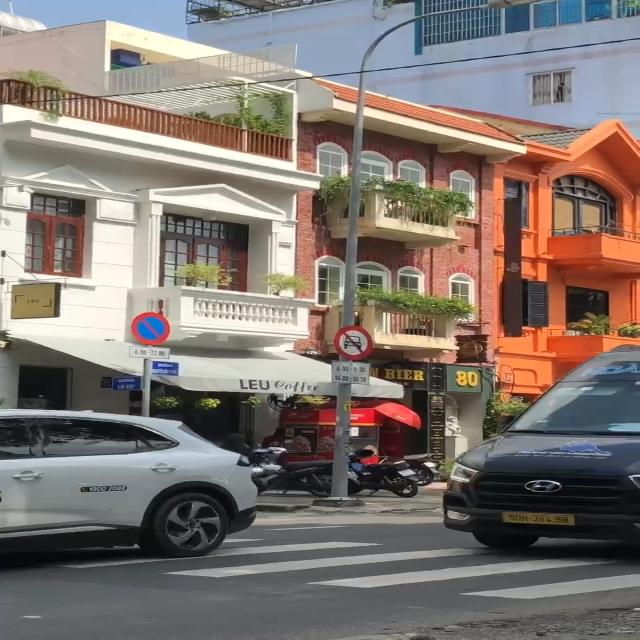Bien bao cam do xe: (128, 312, 178, 347)
Bien bao cam xe oto: (334, 324, 377, 362)
